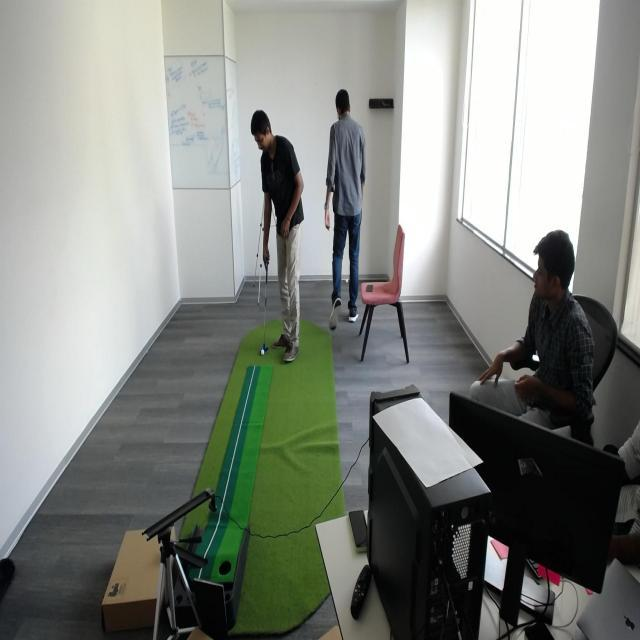GolfBall: (260, 348, 266, 358), (345, 278, 350, 284)
